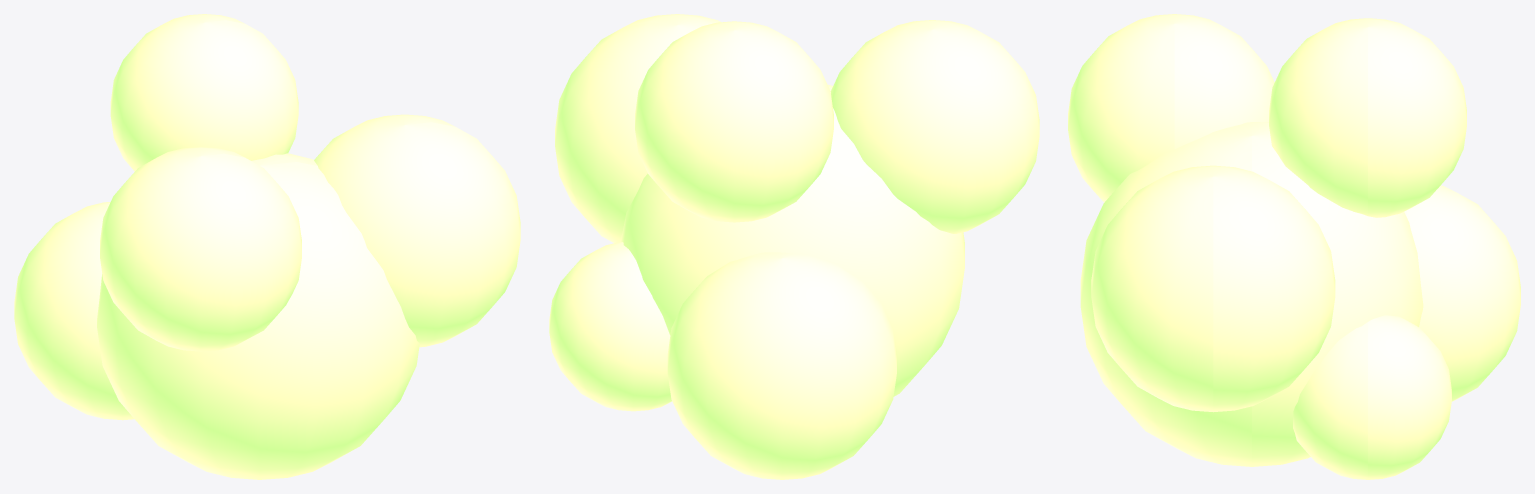
File: husk.gltf
3 renders of one model, left to right at view 1: azimuth 30°, elevation 25°; view 2: azimuth 150°, elevation 25°; view 3: azimuth 270°, elevation 25°, orthographic. The views are drawn at different scales.
Visible parts, largest first — view 1: husk; view 2: husk; view 3: husk.
Part boxes in pixels (x1,y1,x2,y2): husk: (14, 14, 520, 479); husk: (549, 14, 1039, 479); husk: (1068, 14, 1520, 479).
Bounding box in the file's own units: 0.13 × 0.121 × 0.1171.
